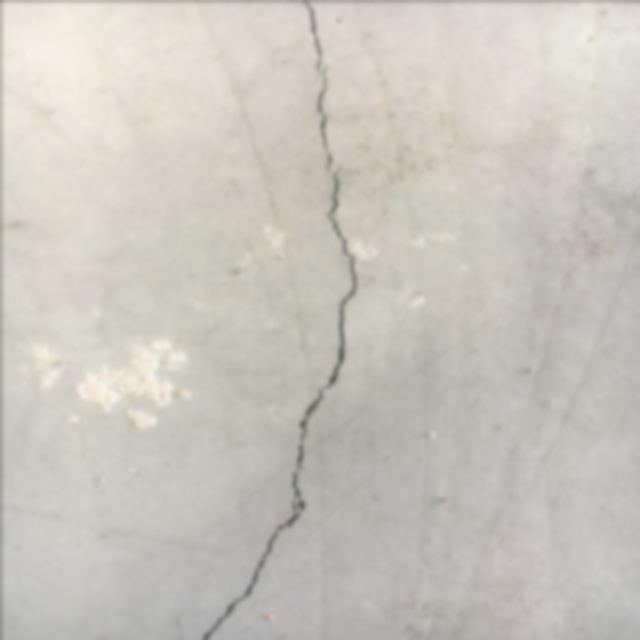SurfaceCrack: (154, 1, 390, 640)
